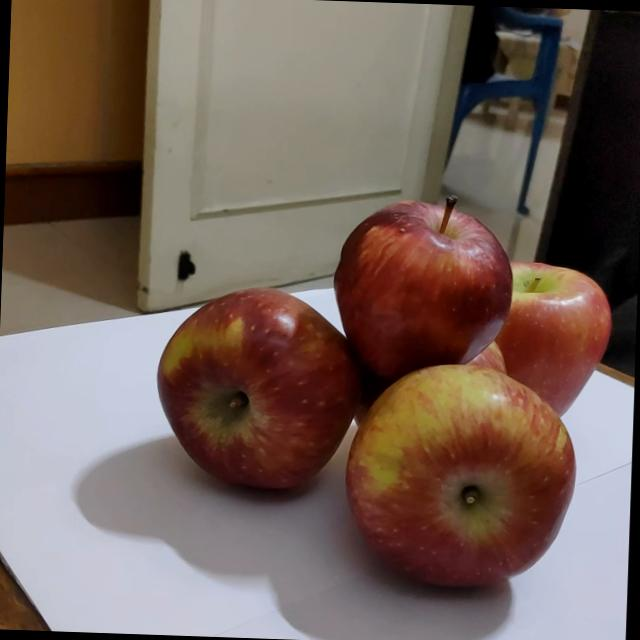apple: (138, 258, 378, 512), (368, 378, 561, 578), (336, 184, 524, 376), (466, 234, 638, 406)
